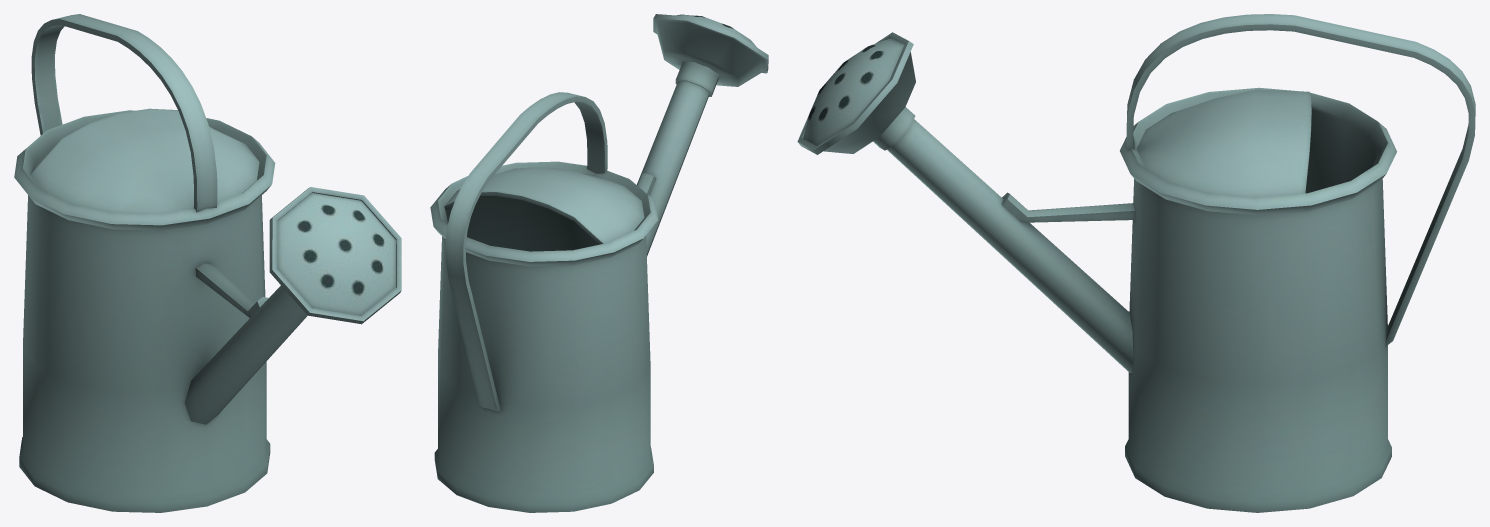
File: watering can.fbx
3 views of the same model, side by side, from view 1: azimuth 30°, elevation 25°; view 2: azimuth 150°, elevation 25°; view 3: azimuth 270°, elevation 25° (orthographic). The views are drawn at different scales.
Visible parts, largest first — view 1: watering_can; view 2: watering_can; view 3: watering_can.
Boxes of the visible parts, x1=… form: watering_can: x1=14, y1=14, x2=401, y2=512; watering_can: x1=430, y1=14, x2=768, y2=512; watering_can: x1=797, y1=14, x2=1475, y2=512.
Bounding box in the file's own units: 6.55 × 11.46 × 16.01.
Materials: 1 (1 with a texture image).
